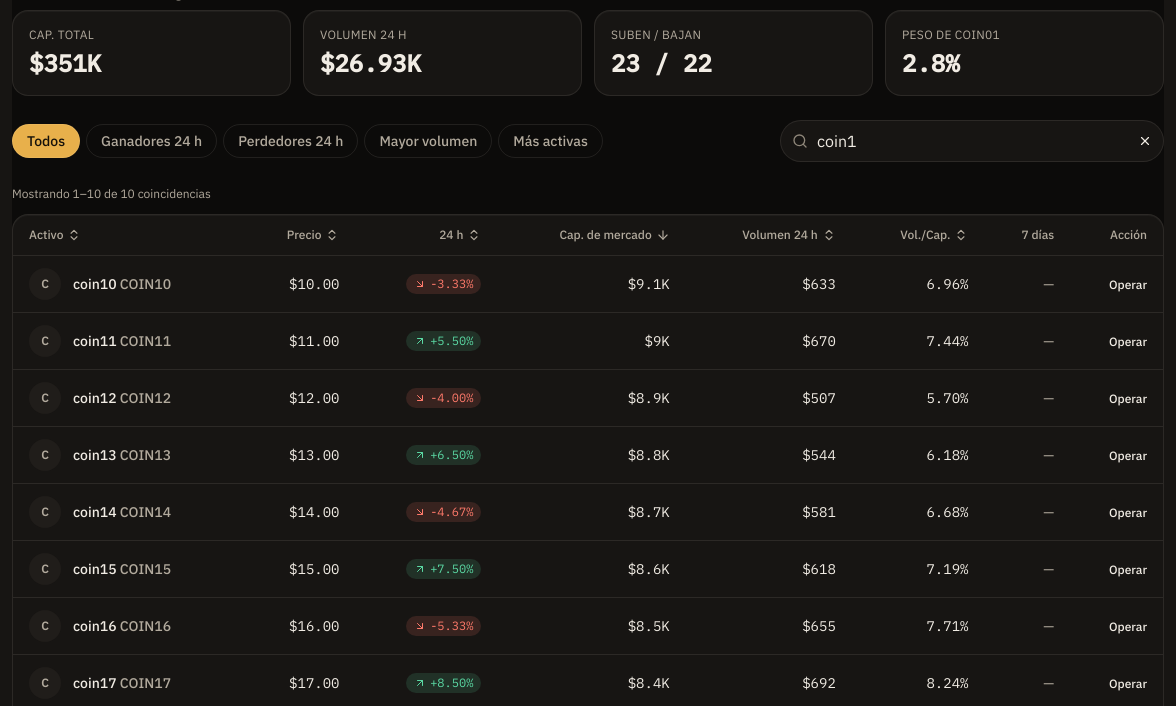
Test: MarketExplorer: search › the clear button resets the field and URL, then restores focus
Click the button named "Borrar búsqueda" at (1145, 141), box top-left (1134, 130), bottom-right (1156, 152)
(page scrolled)
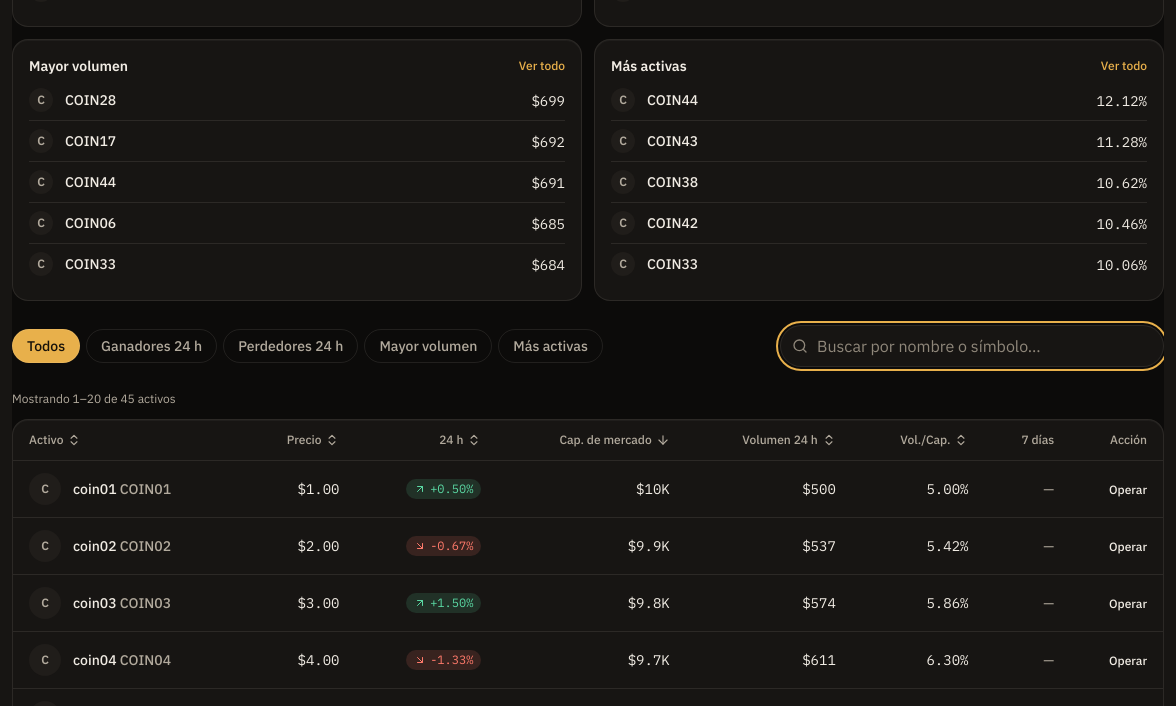
Result: the search field labelled "Buscar por nombre o símbolo" is empty at top-left (780, 325), bottom-right (1164, 367)
